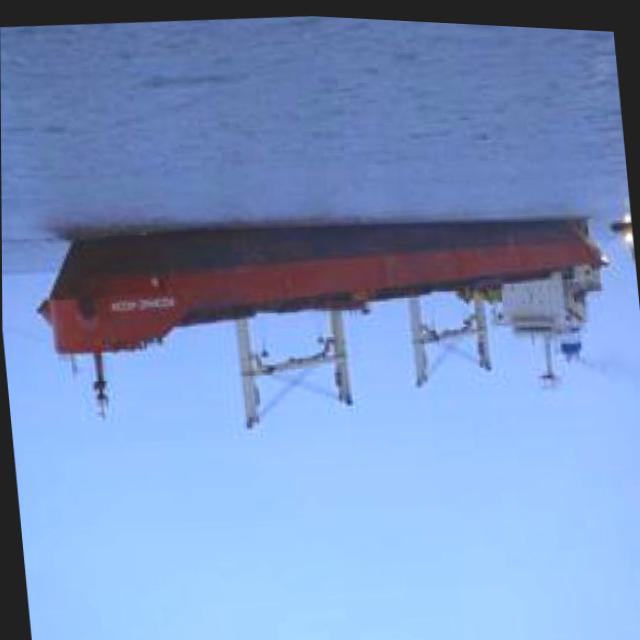ship2: (36, 210, 605, 426)
